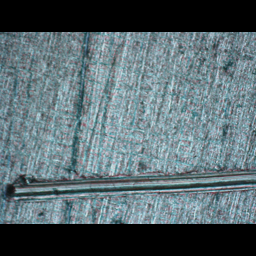d: (2, 161, 256, 206)
